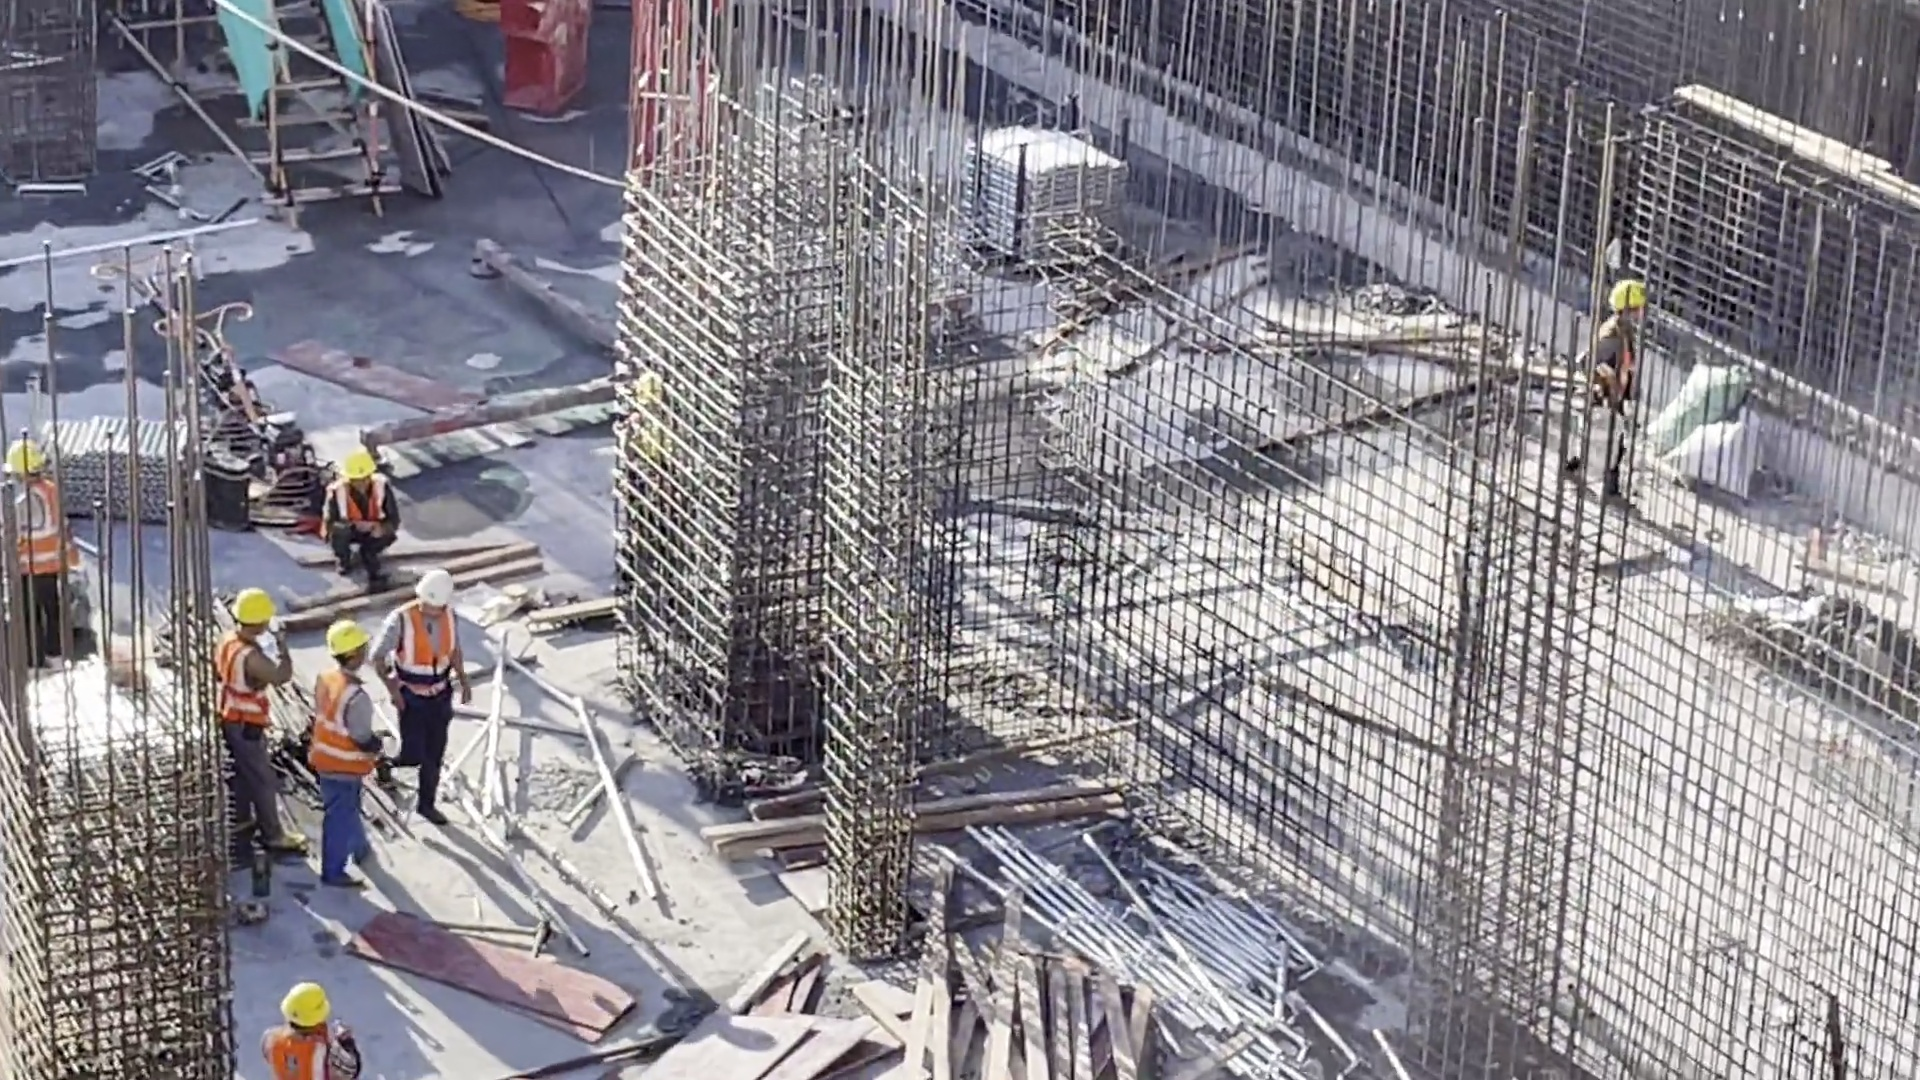board: (623, 1013, 891, 1080)
helmet: (401, 563, 458, 612), (329, 439, 373, 485), (285, 980, 330, 1026), (325, 616, 373, 658), (1607, 280, 1654, 320), (10, 438, 47, 483), (237, 589, 273, 631)
person: (211, 580, 318, 875), (363, 580, 488, 826), (299, 613, 381, 883), (6, 427, 81, 653), (256, 968, 369, 1080), (1586, 260, 1638, 505), (317, 435, 407, 574)
scaffold: (1024, 813, 1306, 1080), (958, 116, 1116, 293)
vest: (374, 608, 471, 697), (211, 632, 285, 738), (295, 685, 375, 776), (1, 490, 73, 581), (314, 472, 410, 538), (272, 1022, 355, 1080), (1597, 327, 1648, 405)
wood: (921, 902, 1148, 1080)
